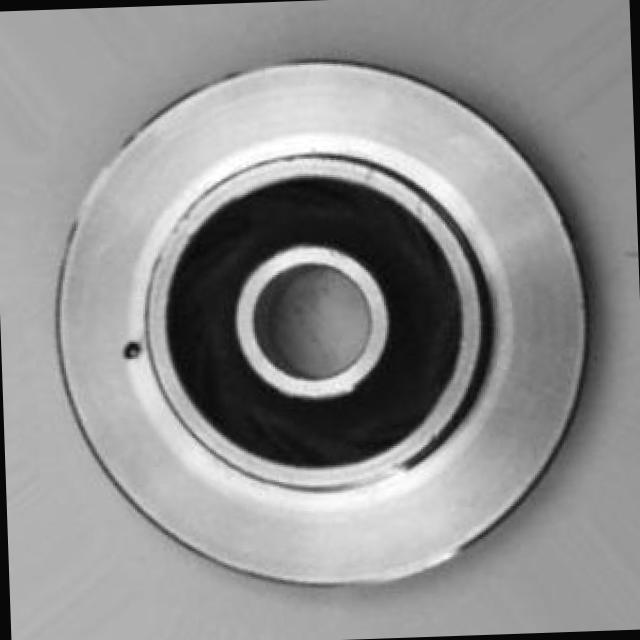Defect: (117, 330, 150, 373)
